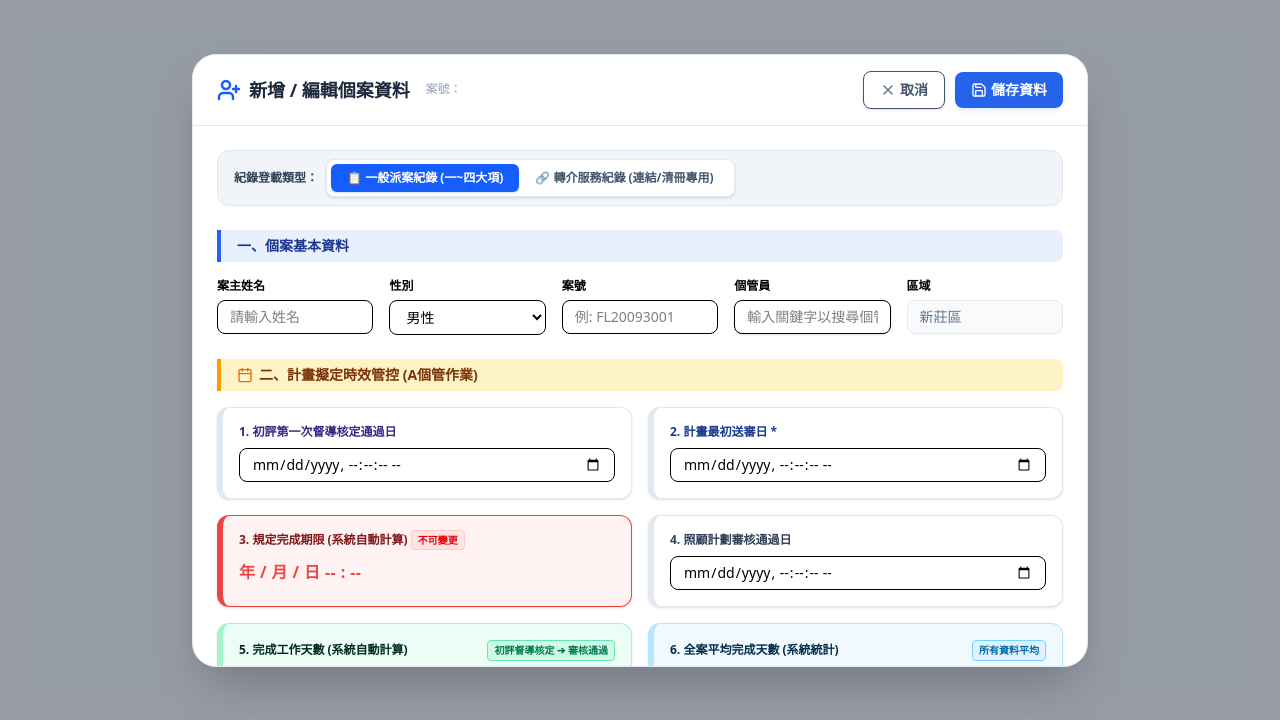
Test: CaseForm Integration Test › should show overtime warning and delay reason field when submitDate is past deadlineDate
This screenshot has width=1280, height=720.
Type "2026-06-01T10:00" into the field labelled "2. 計畫最初送審日 *" at (858, 464), box [670, 448, 1046, 482]
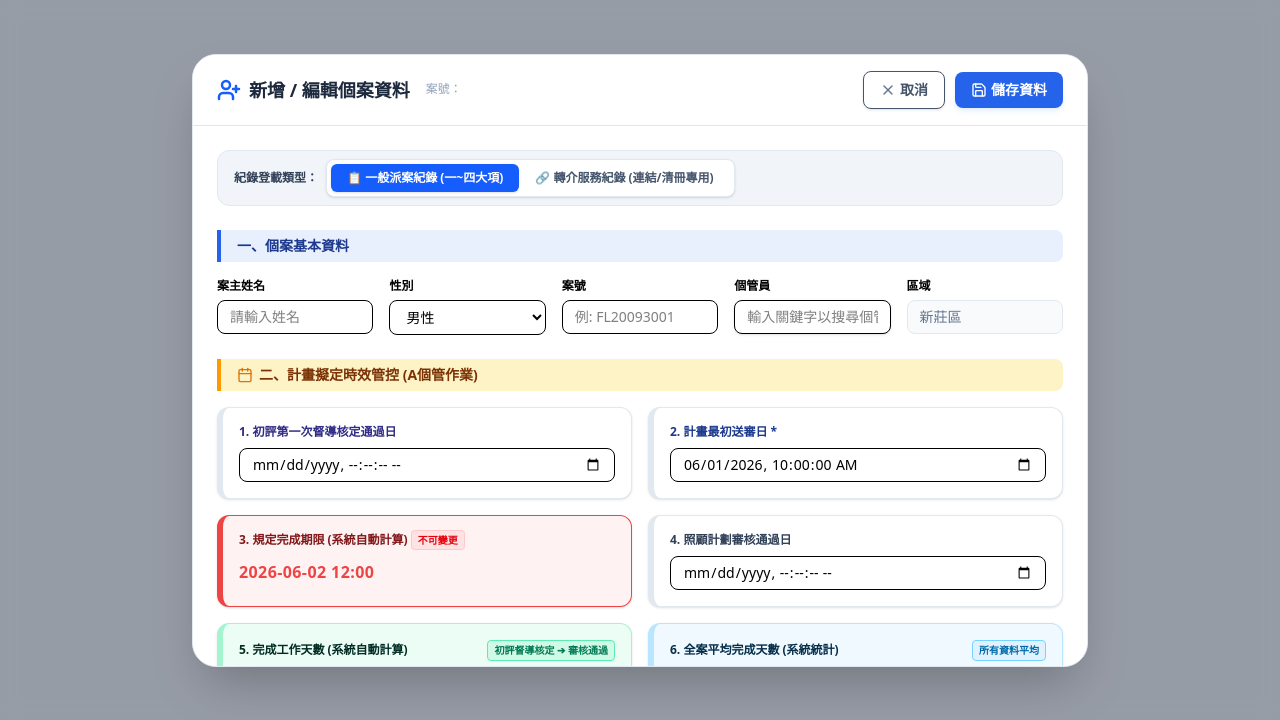
Type "2026-06-03T10:00" into the field labelled "4. 照顧計劃審核通過日" at (858, 572), box [670, 556, 1046, 590]
(page scrolled)
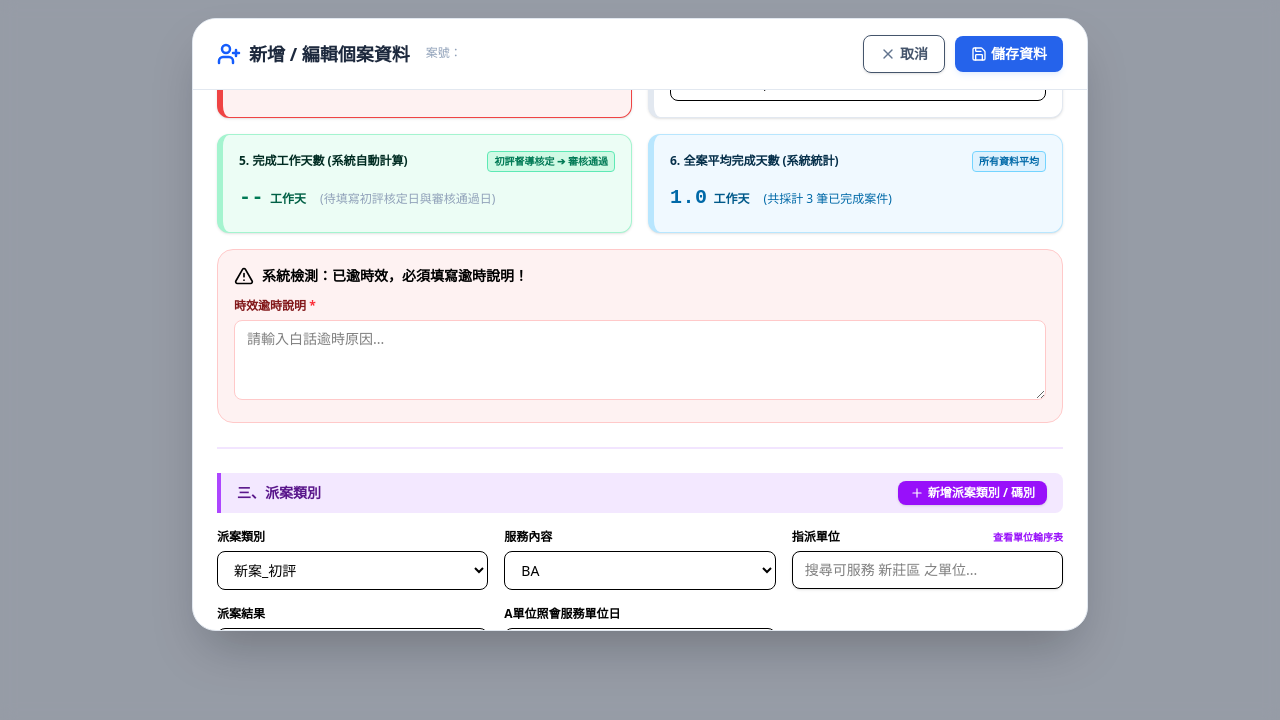
Check: the text "系統檢測：已逾時效，必須填寫逾時說明！" is shown, box [262, 266, 528, 286]
Check: the text box with placeholder "請輸入白話逾時原因..." is shown, box [234, 320, 1046, 400]
